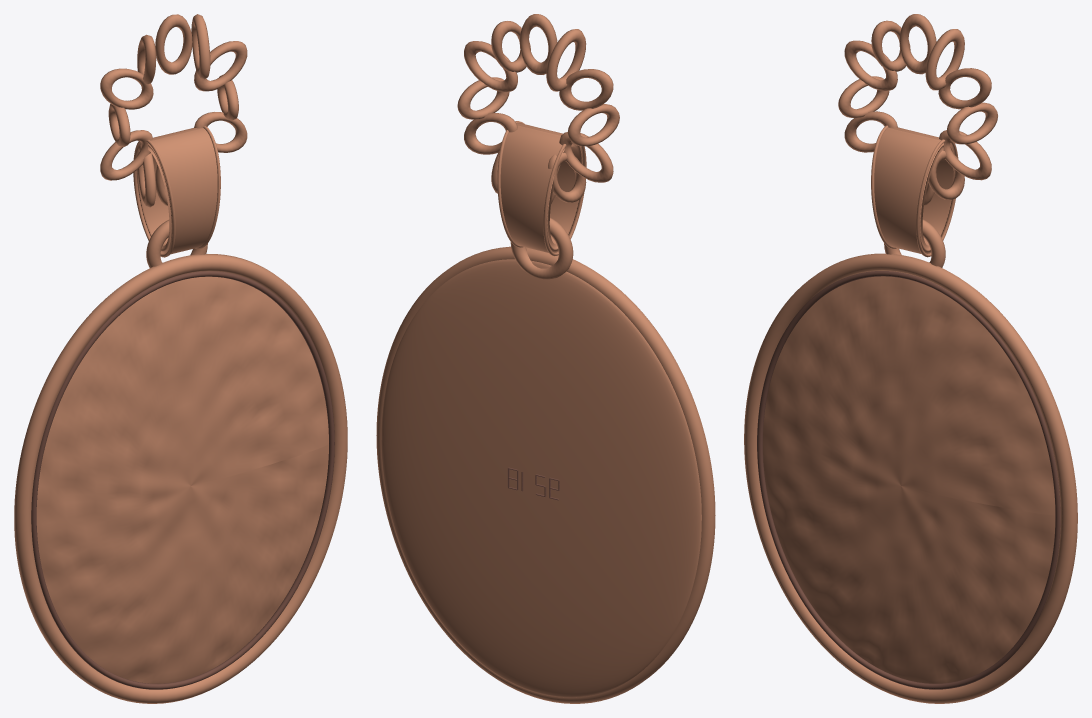
The model's file is grithe_pendant.glb.
The picture shows the model from 3 angles, left to right: view 1: azimuth 30°, elevation 25°; view 2: azimuth 150°, elevation 25°; view 3: azimuth 330°, elevation 25°; orthographic projection.
Parts seen in each view (by area): view 1: Reddish hand hammered copper, Darkened copper recessed border; view 2: Reddish hand hammered copper; view 3: Reddish hand hammered copper, Darkened copper recessed border.
Boxes of the visible parts, x1=… form: Reddish hand hammered copper: x1=14, y1=14, x2=347, y2=703; Darkened copper recessed border: x1=31, y1=271, x2=334, y2=689; Reddish hand hammered copper: x1=376, y1=14, x2=715, y2=703; Reddish hand hammered copper: x1=744, y1=14, x2=1077, y2=703; Darkened copper recessed border: x1=757, y1=271, x2=1060, y2=689.
Size of the model in its own units: 0.0293 by 0.0575 by 0.00602.
